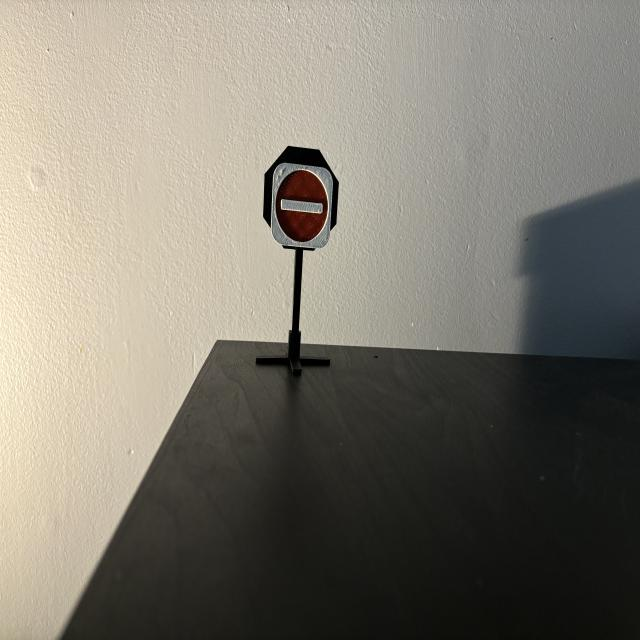sign_noentry: (273, 164, 333, 249)
